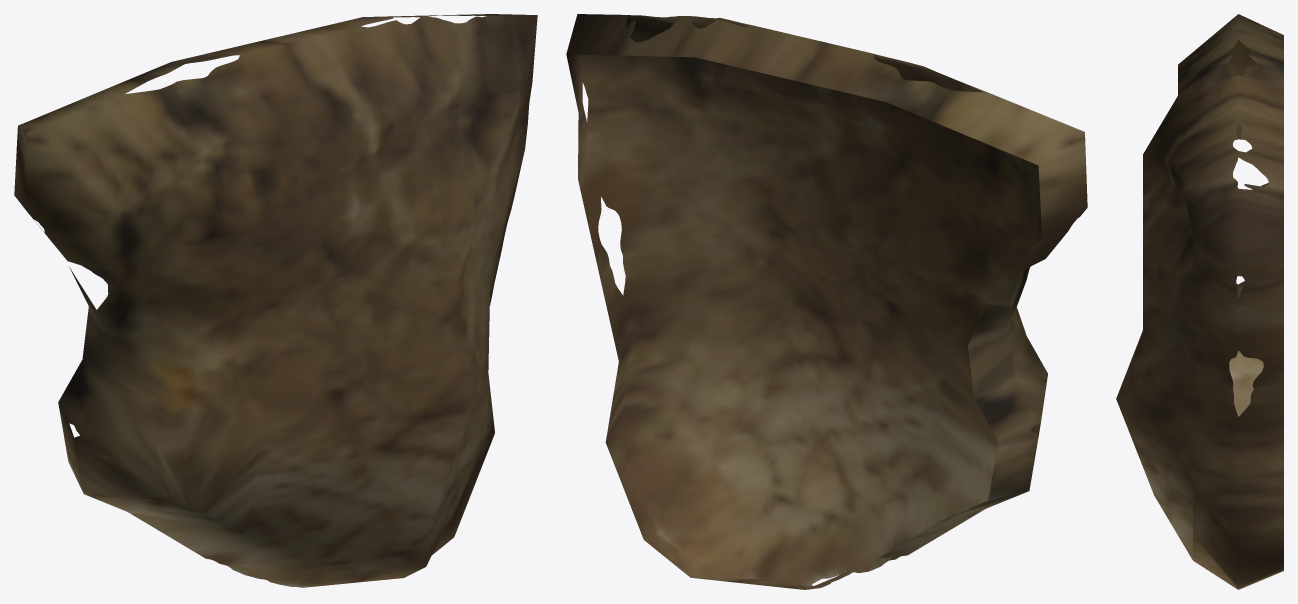
File: bug_nest_2.FBX
3 renders of one model, left to right at view 1: azimuth 30°, elevation 25°; view 2: azimuth 150°, elevation 25°; view 3: azimuth 270°, elevation 25°, orthographic. The views are drawn at different scales.
Visible parts, largest first — view 1: bug_nest_2; view 2: bug_nest_2; view 3: bug_nest_2.
Boxes of the visible parts, <box> form: bug_nest_2: <box>14,14,537,587</box>; bug_nest_2: <box>566,14,1087,589</box>; bug_nest_2: <box>1116,14,1283,589</box>.
Size of the model in its own units: 37.41 by 39.31 by 13.25.
